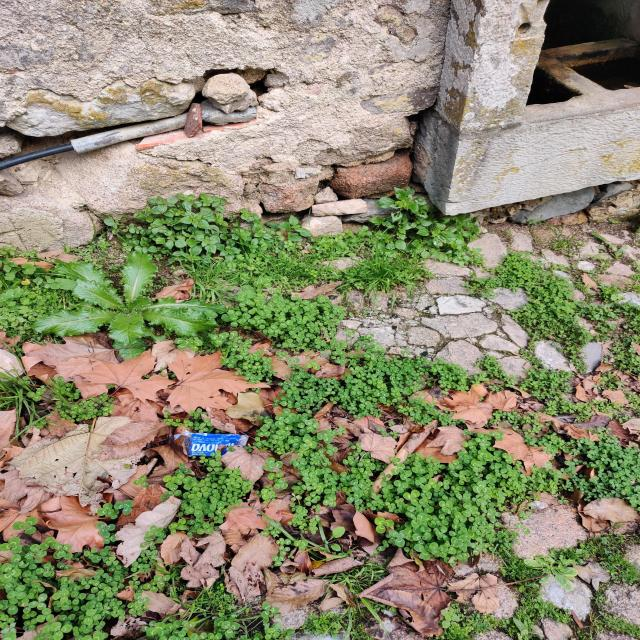litter: (163, 427, 256, 467)
